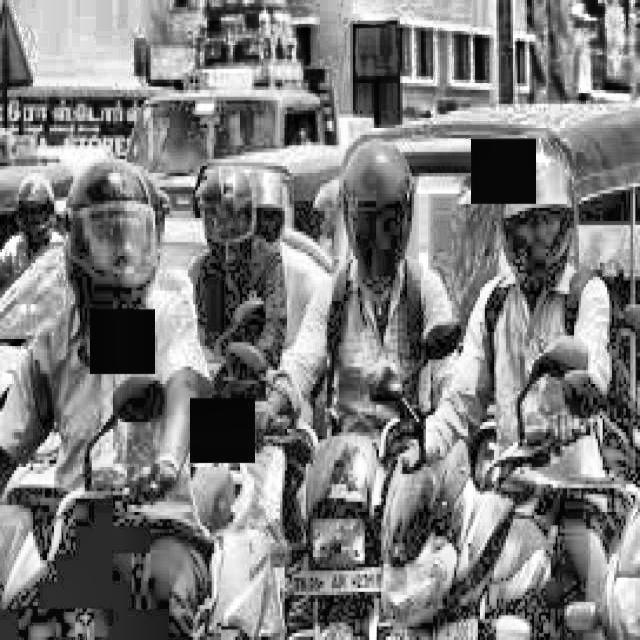Helmet: (63, 150, 169, 307), (505, 114, 580, 294), (343, 136, 424, 291)
